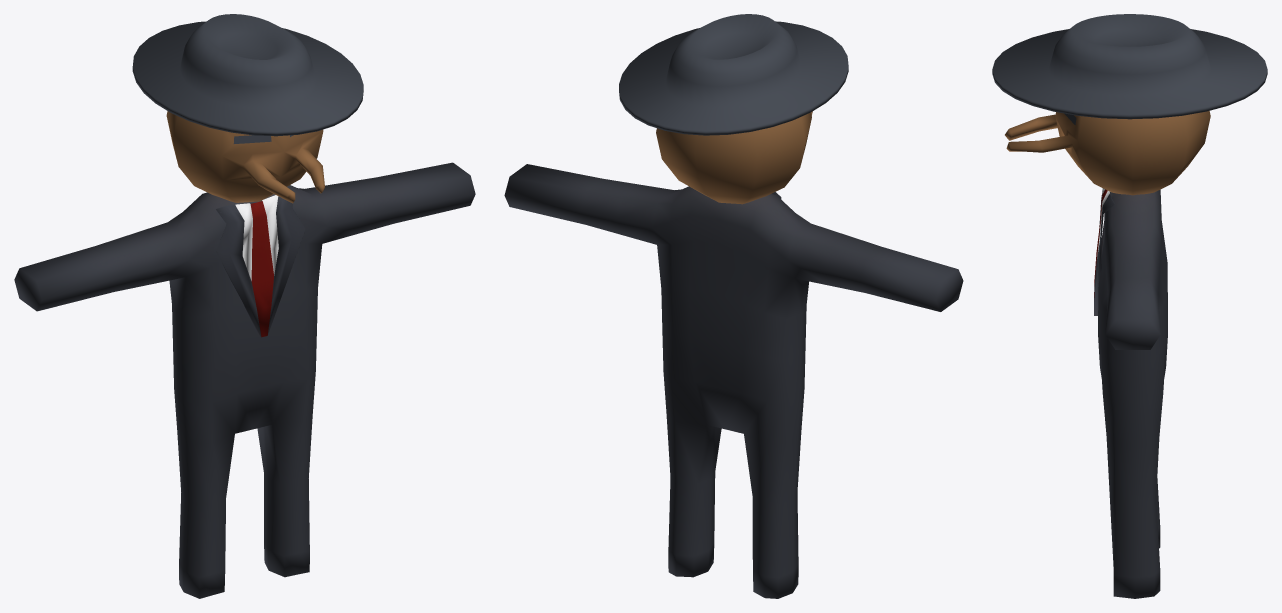
The model's file is Enemy Character.fbx.
3 views of the same model, side by side, from view 1: azimuth 30°, elevation 25°; view 2: azimuth 150°, elevation 25°; view 3: azimuth 270°, elevation 25° (orthographic).
Parts seen in each view (by area): view 1: Character 180.002; view 2: Character 180.002; view 3: Character 180.002.
Part boxes in pixels (x1,y1,x2,y2): Character 180.002: (14,14,475,598); Character 180.002: (504,14,963,598); Character 180.002: (992,14,1267,598).
Bounding box in the file's own units: 224 × 268 × 124.
